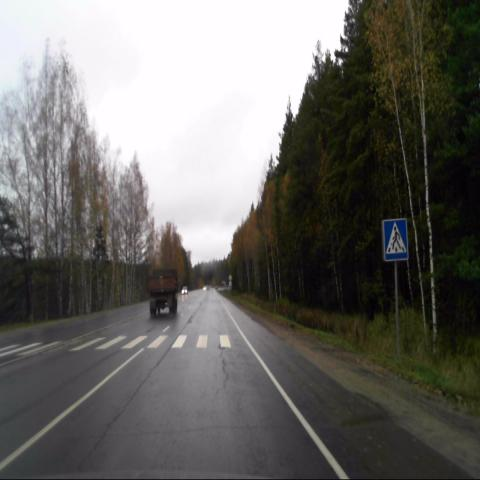5_19_1: (382, 218, 410, 261)
